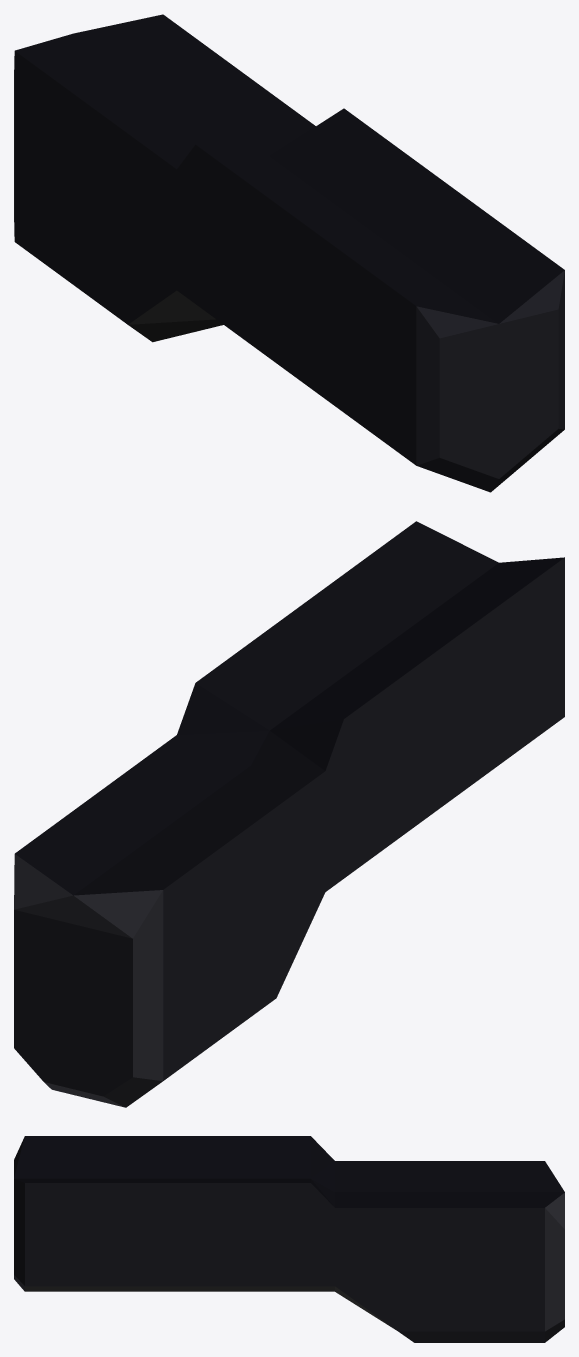
The model's file is MW1_PumpHandle_12ga_02.fbx.
3 views of the same model, one above another, from view 1: azimuth 30°, elevation 25°; view 2: azimuth 150°, elevation 25°; view 3: azimuth 270°, elevation 25° (orthographic). The views are drawn at different scales.
Parts seen in each view (by area): view 1: PumpHandle_12ga_02; view 2: PumpHandle_12ga_02; view 3: PumpHandle_12ga_02.
Boxes of the visible parts, x1,y1,x2,y2 form: PumpHandle_12ga_02: [14, 14, 564, 492]; PumpHandle_12ga_02: [14, 521, 564, 1107]; PumpHandle_12ga_02: [14, 1136, 564, 1342].
Size of the model in its own units: 3.78 by 6.46 by 18.78.
